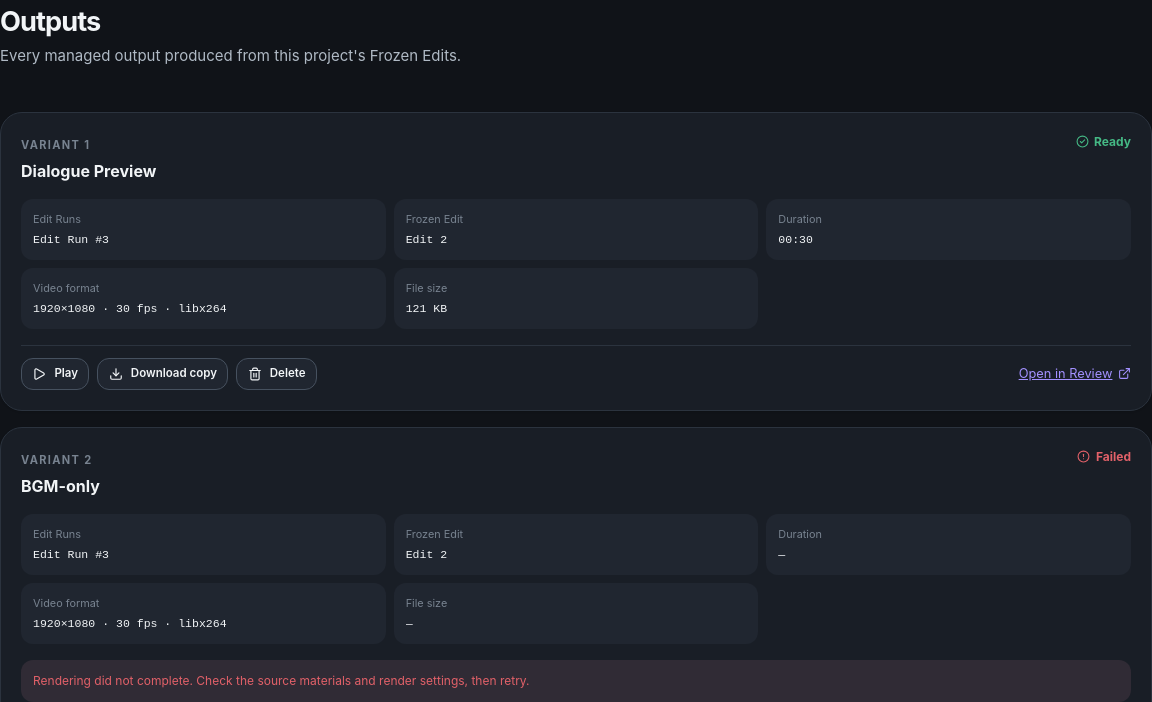
Test: Project Outputs › lists the real project projection and supports Play, Download and Retry
expect the heading "Dialogue Preview" is shown: met, box [21,159,156,183]
expect the heading "BGM-only" is shown: met, box [21,474,100,498]
Click the button "Play" at coordinates (55, 374), box [21,358,89,390]
(page scrolled)
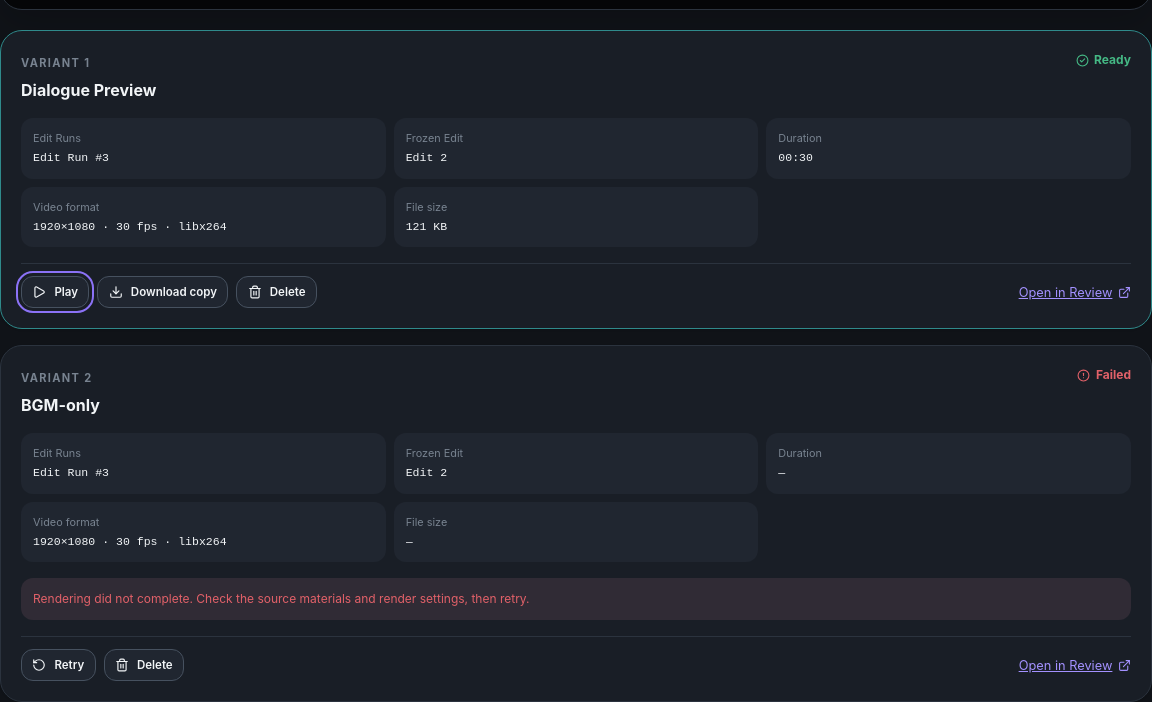
Click the button "Retry" at coordinates (58, 665), box [21,649,96,681]
(page scrolled)
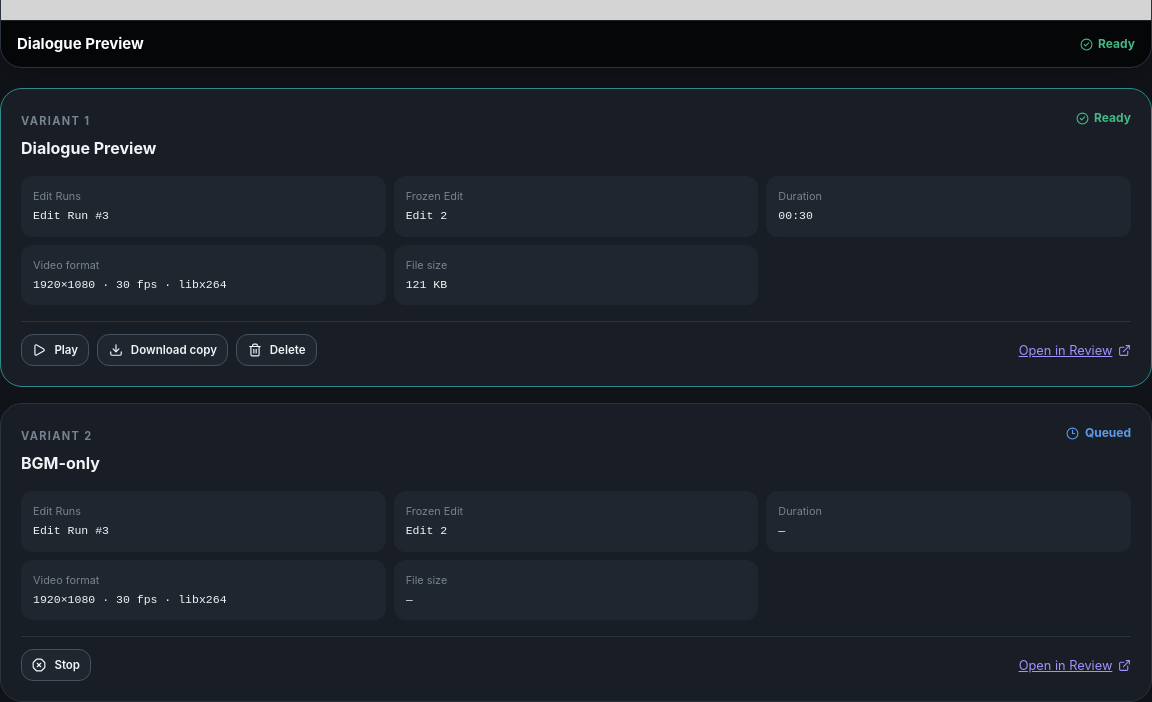
expect the text "Queued" is shown: met, box [1066,424,1131,442]
